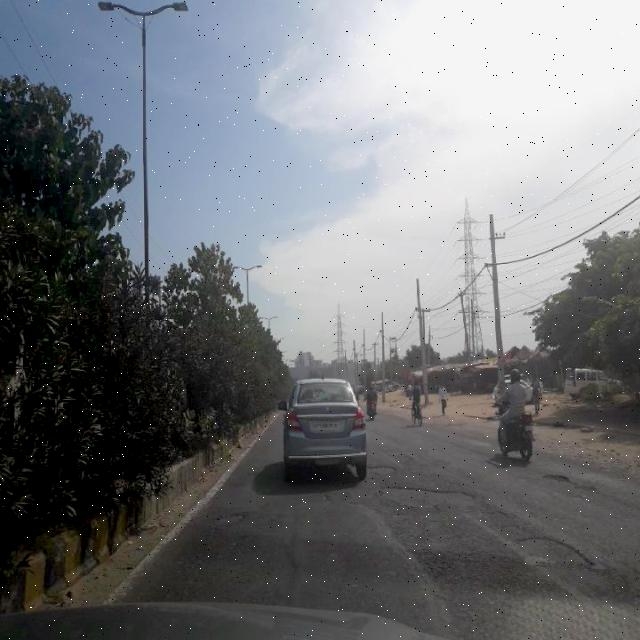D20: (376, 441, 617, 630), (142, 482, 314, 596)
D40: (516, 528, 614, 592), (369, 481, 488, 522), (540, 464, 594, 497), (216, 505, 253, 536), (369, 457, 400, 483)
